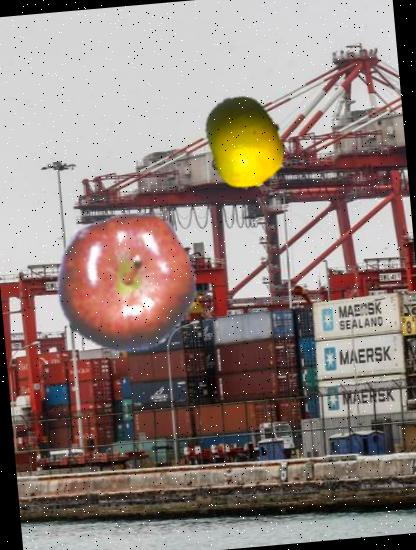Apple: (47, 204, 204, 360)
Pomelo: (194, 90, 296, 192)
